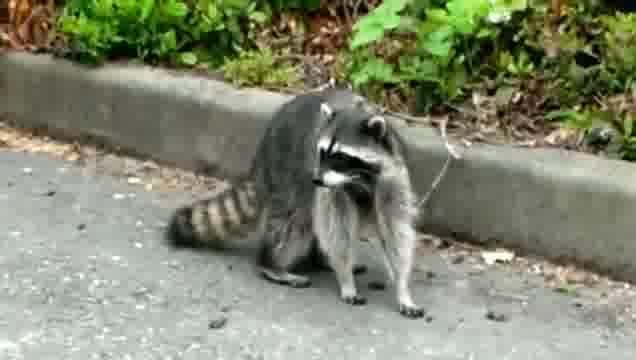raccoon: (164, 87, 437, 326)
